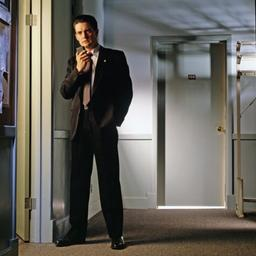person: (55, 15, 133, 249)
